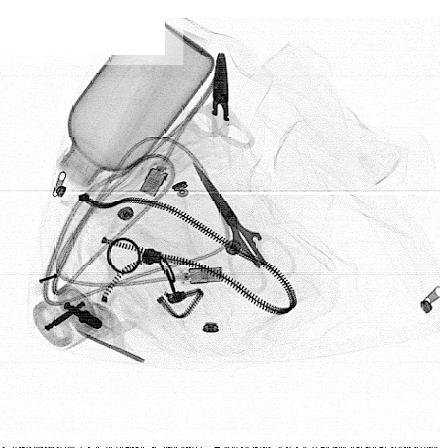Scissors: (190, 156, 300, 297), (181, 50, 257, 150)
